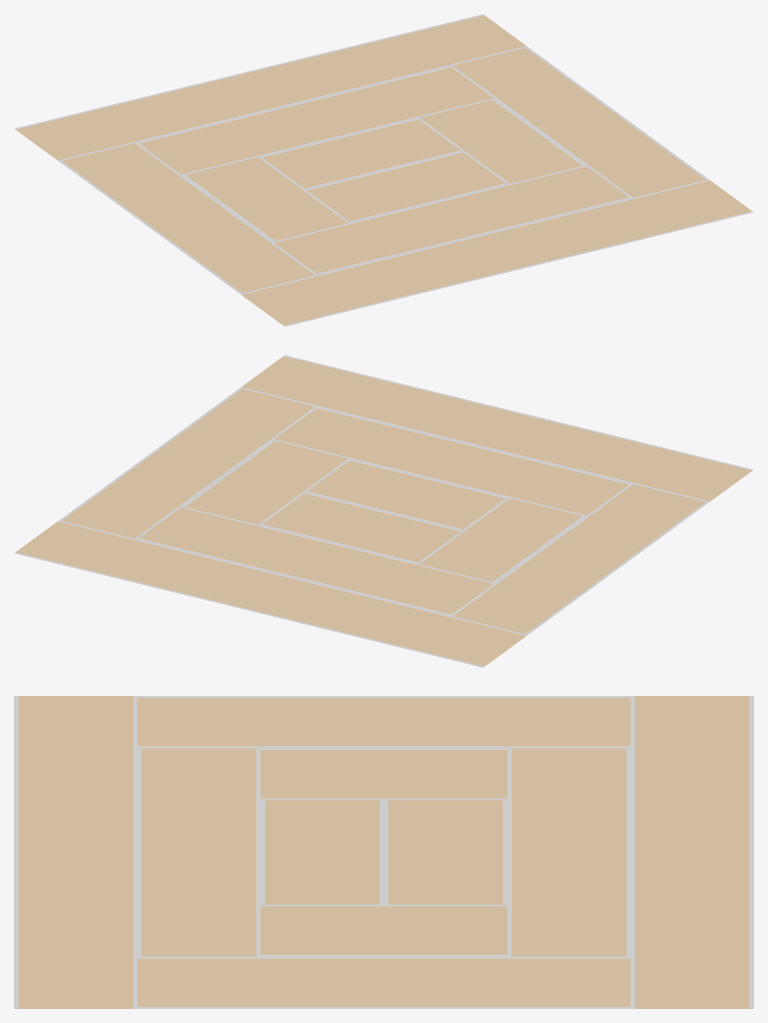
The model's file is tatami.dae.
3 renders of one model, top to bottom at view 1: azimuth 30°, elevation 25°; view 2: azimuth 150°, elevation 25°; view 3: azimuth 270°, elevation 25°, orthographic. The views are drawn at different scales.
Parts seen in each view (by area): view 1: tatami.012, tatami.017, tatami.005, tatami.007, tatami.013, tatami.014, tatami.015, tatami.016, tatami, tatami.001, tatami.004, tatami.006 (+6 smaller); view 2: tatami.012, tatami.017, tatami.004, tatami.006, tatami.013, tatami.015, tatami, tatami.001, tatami.005, tatami.007, tatami.014, tatami.016 (+6 smaller); view 3: tatami.002, tatami.003, tatami.008, tatami.009, tatami.010, tatami.011, tatami, tatami.001, tatami.004, tatami.005, tatami.006, tatami.007 (+6 smaller).
Part boxes in pixels (x1,y1,x2,y2): tatami.012: (170, 52, 371, 123); tatami.017: (396, 217, 597, 288); tatami.005: (294, 66, 494, 137); tatami.007: (273, 203, 473, 274); tatami.013: (14, 90, 214, 161); tatami.014: (327, 14, 527, 85); tatami.015: (553, 179, 753, 250); tatami.016: (240, 255, 440, 326); tatami: (306, 151, 506, 222); tatami.001: (261, 118, 461, 189); tatami.004: (137, 104, 338, 175); tatami.006: (429, 165, 630, 236); tatami.012: (170, 558, 371, 629); tatami.017: (396, 393, 597, 464); tatami.004: (294, 544, 494, 615); tatami.006: (273, 407, 473, 478); tatami.013: (327, 596, 527, 667); tatami.015: (240, 355, 440, 426); tatami: (306, 459, 506, 530); tatami.001: (261, 492, 461, 563); tatami.005: (137, 506, 338, 577); tatami.007: (429, 445, 630, 516); tatami.014: (14, 520, 214, 591); tatami.016: (553, 431, 753, 502); tatami.002: (260, 748, 507, 800); tatami.003: (260, 904, 507, 956); tatami.008: (384, 696, 630, 748); tatami.009: (137, 696, 383, 748); tatami.010: (137, 956, 383, 1008); tatami.011: (384, 956, 630, 1008); tatami: (260, 800, 383, 904); tatami.001: (384, 800, 507, 904); tatami.004: (507, 748, 630, 852); tatami.005: (507, 852, 630, 956); tatami.006: (137, 852, 260, 956); tatami.007: (137, 748, 260, 852).
Size of the model in its own units: 24 by 24 by 0.
